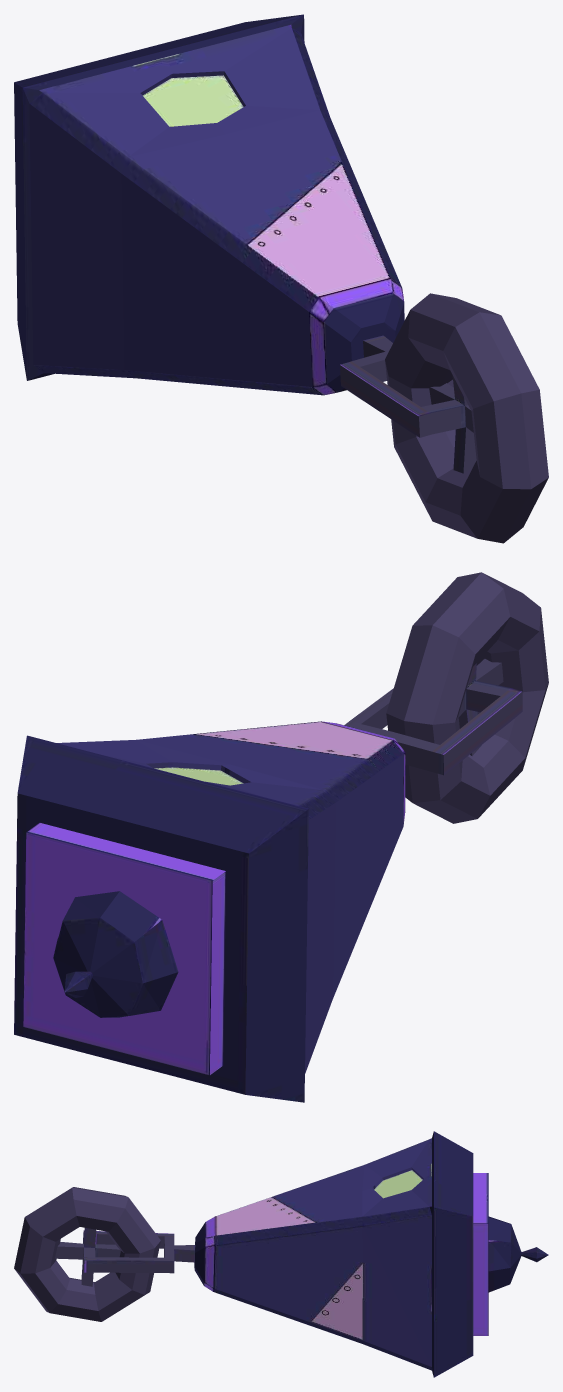
The model's file is Enemy1.fbx.
3 renders of one model, top to bottom at view 1: azimuth 30°, elevation 25°; view 2: azimuth 150°, elevation 25°; view 3: azimuth 270°, elevation 25°, orthographic. The views are drawn at different scales.
Visible parts, largest first — view 1: Cone, Wheel; view 2: Cone, Wheel; view 3: Cone, Wheel.
Boxes of the visible parts, bbox=[...] form: Cone: bbox=[14, 14, 476, 473]; Wheel: bbox=[385, 293, 548, 543]; Cone: bbox=[14, 659, 522, 1102]; Wheel: bbox=[386, 572, 548, 823]; Cone: bbox=[55, 1131, 548, 1377]; Wheel: bbox=[14, 1187, 160, 1321].
Bounding box in the file's own units: 0.596 × 0.596 × 1.68.
